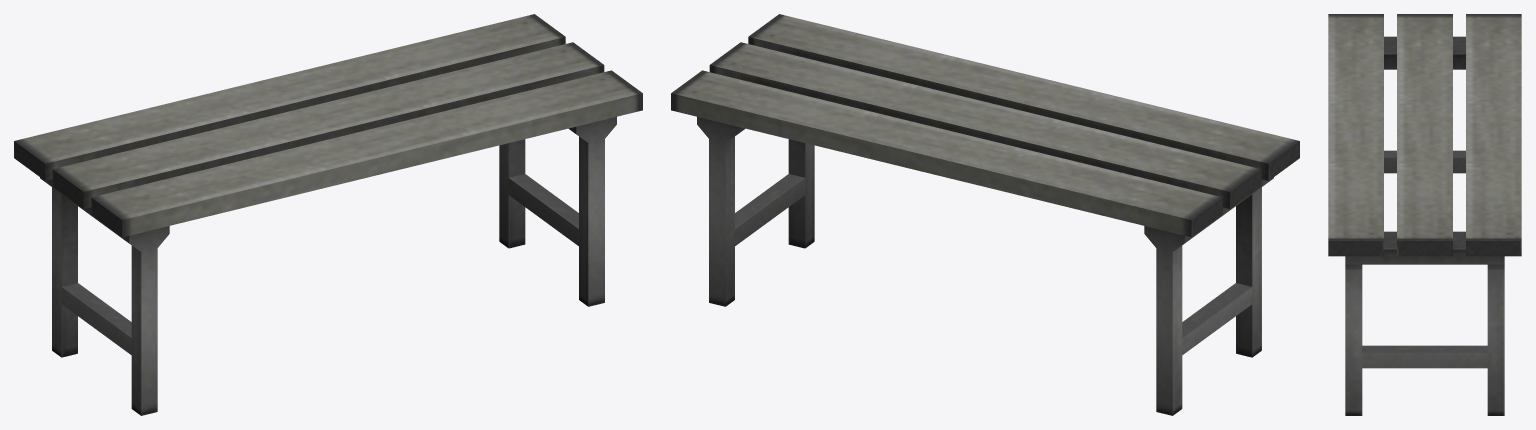
Rendered from plastic-bench_clean.obj.
3 views of the same model, side by side, from view 1: azimuth 30°, elevation 25°; view 2: azimuth 150°, elevation 25°; view 3: azimuth 270°, elevation 25° (orthographic). The views are drawn at different scales.
Visible parts, largest first — view 1: plastic-bench_clean-col; view 2: plastic-bench_clean-col; view 3: plastic-bench_clean-col.
Part boxes in pixels (x1,y1,x2,y2): plastic-bench_clean-col: (14, 14, 642, 415); plastic-bench_clean-col: (671, 14, 1299, 415); plastic-bench_clean-col: (1328, 14, 1521, 415).
Size of the model in its own units: 1 by 0.385 by 0.36.
